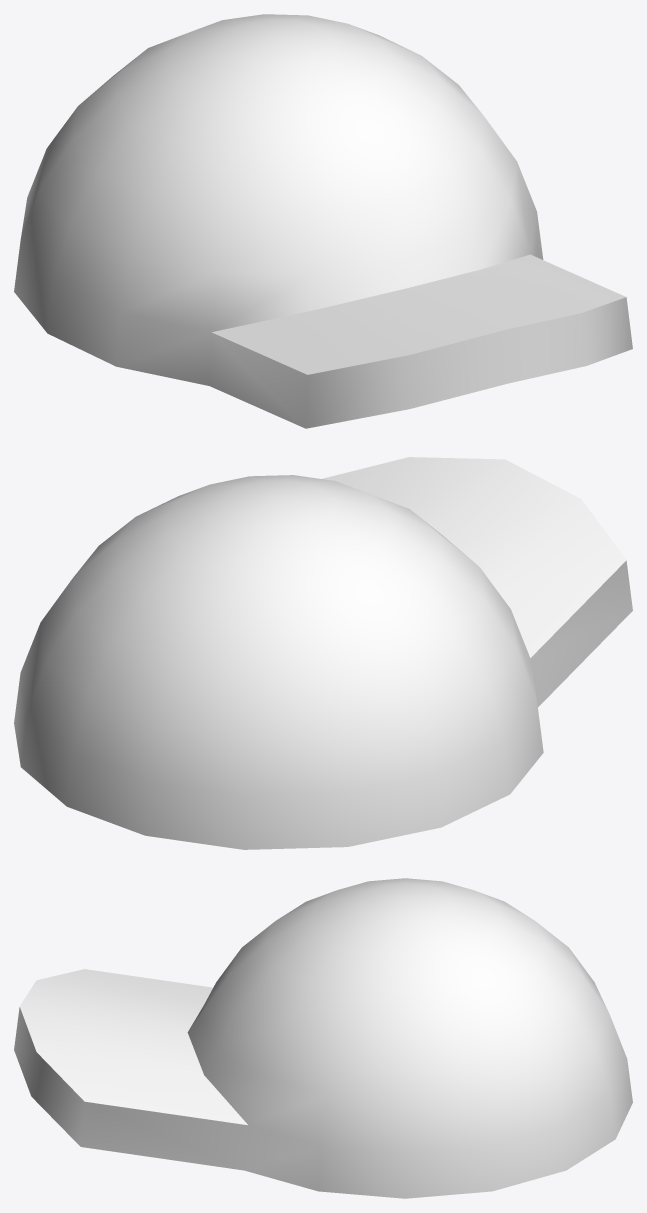
The model's file is Capsule_Head_Props_Cap_01.fbx.
3 renders of one model, top to bottom at view 1: azimuth 30°, elevation 25°; view 2: azimuth 150°, elevation 25°; view 3: azimuth 270°, elevation 25°, orthographic. The views are drawn at different scales.
Parts seen in each view (by area): view 1: Capsule_Head_Props_Cap_01; view 2: Capsule_Head_Props_Cap_01; view 3: Capsule_Head_Props_Cap_01.
Part boxes in pixels (x1=…): Capsule_Head_Props_Cap_01: x1=14, y1=14, x2=632, y2=428; Capsule_Head_Props_Cap_01: x1=14, y1=457, x2=632, y2=849; Capsule_Head_Props_Cap_01: x1=14, y1=878, x2=632, y2=1198.
Bounding box in the file's own units: 111 × 54.95 × 151.
